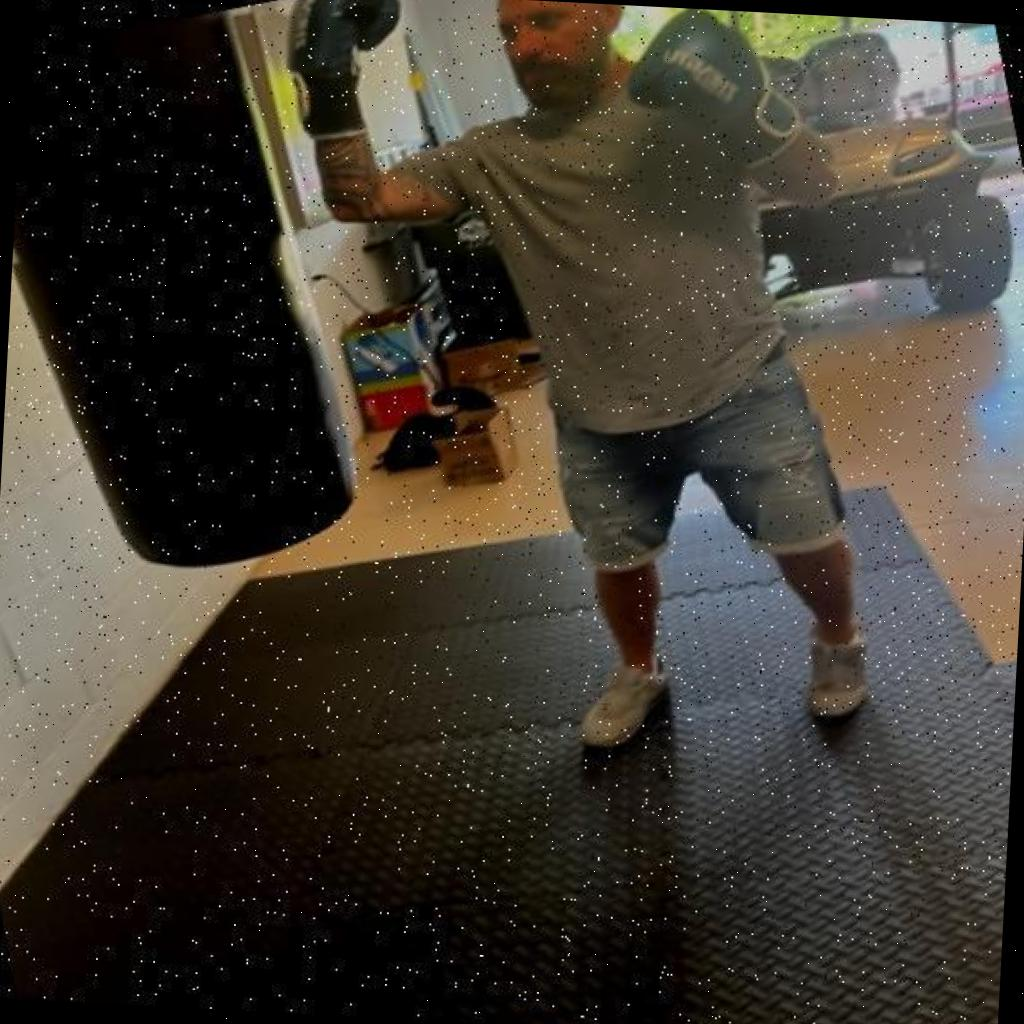uppercut: (192, 0, 847, 345)
